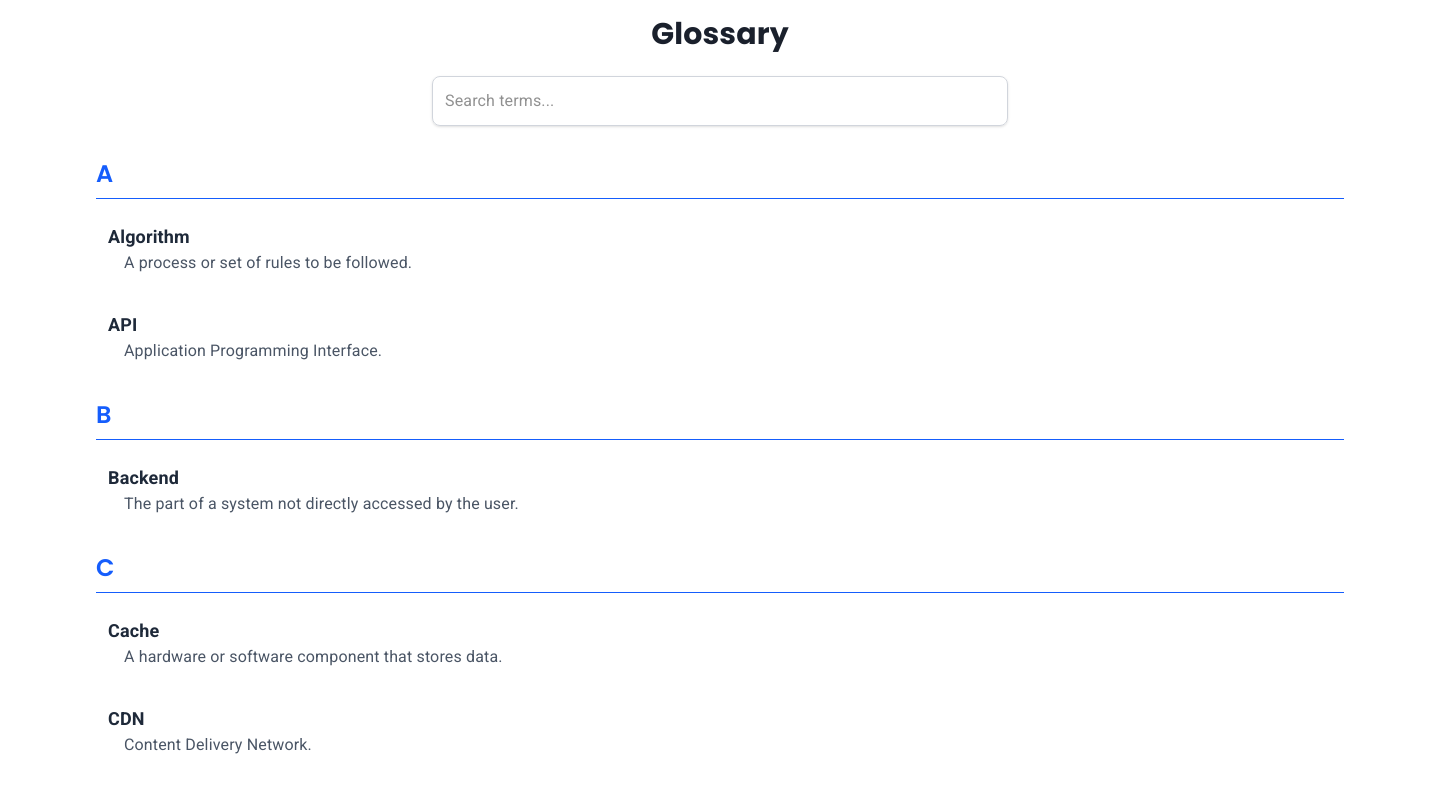
Scenario: GlossaryPage › shows "No terms match" message when filter yields no results
Type "NonExistentTerm123" into the field with placeholder "Search terms..." at (720, 101), box x1=432 y1=76 x2=1008 y2=126
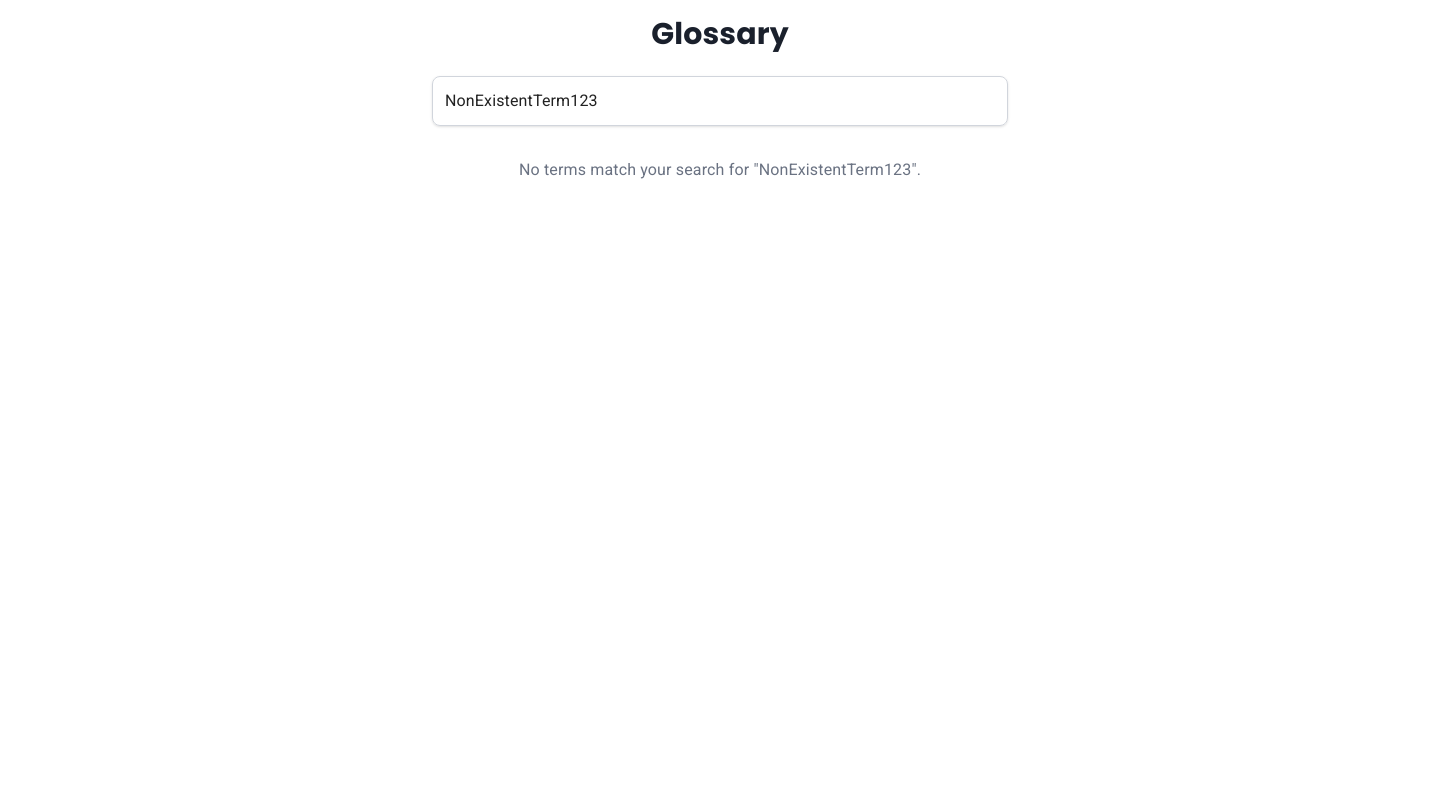
Check: the text "No terms match your search for \"NonExistentTerm123\"." is shown, box x1=519 y1=160 x2=921 y2=179
